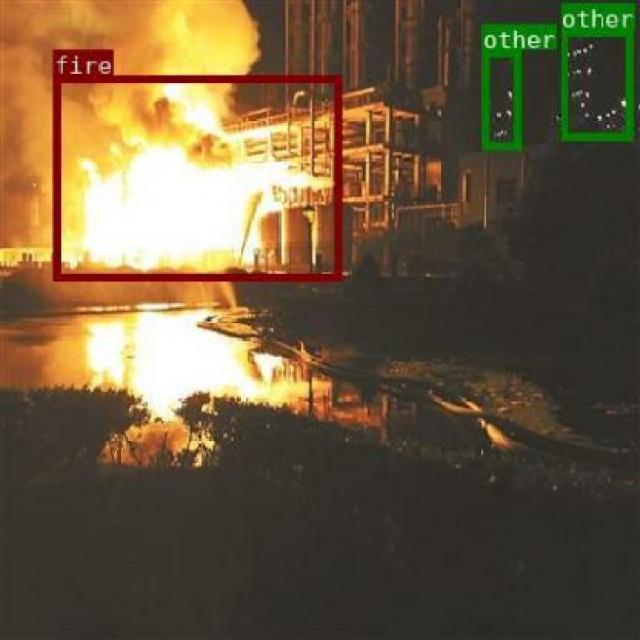Fire: (52, 74, 340, 280)
